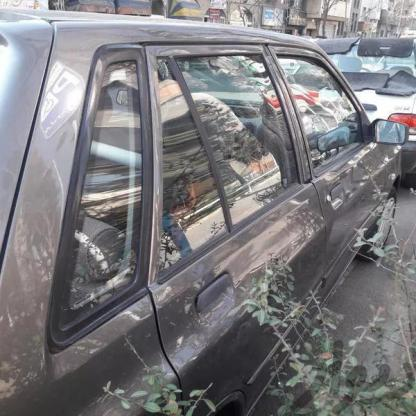Car: (0, 0, 416, 416), (269, 23, 411, 164)
